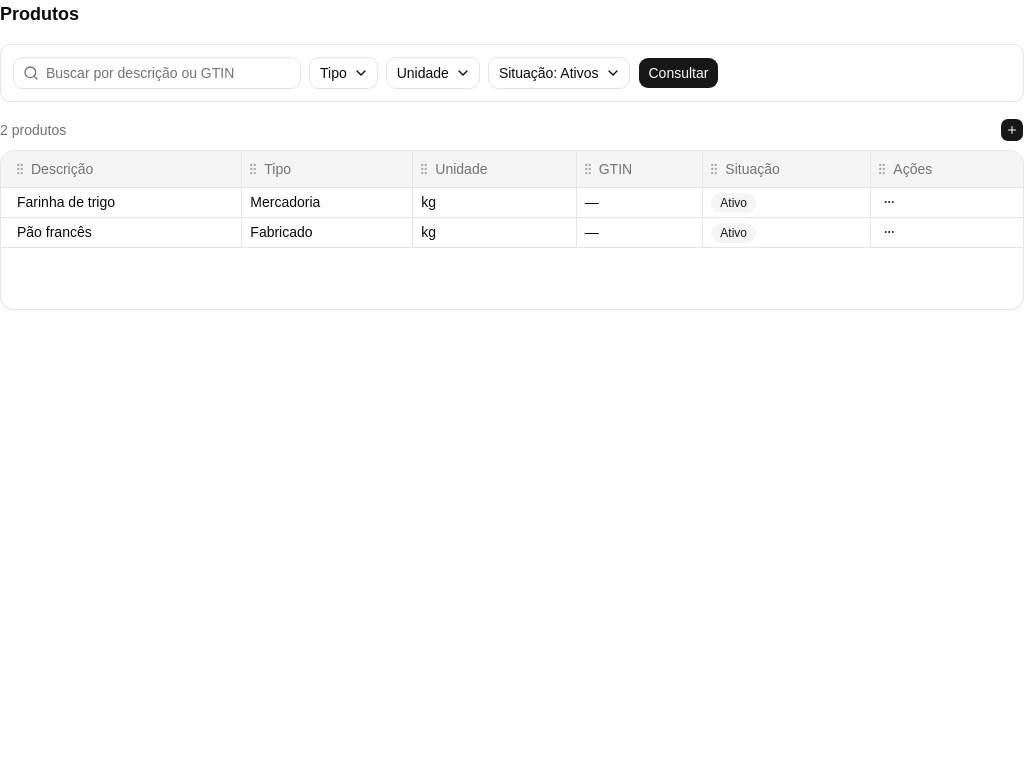
Test: ProductsListPage › lets the recipe of the product just registered be left for later
Click the button named "Novo produto". click: [1012, 130]
box: left=1000, top=118, right=1023, bottom=142
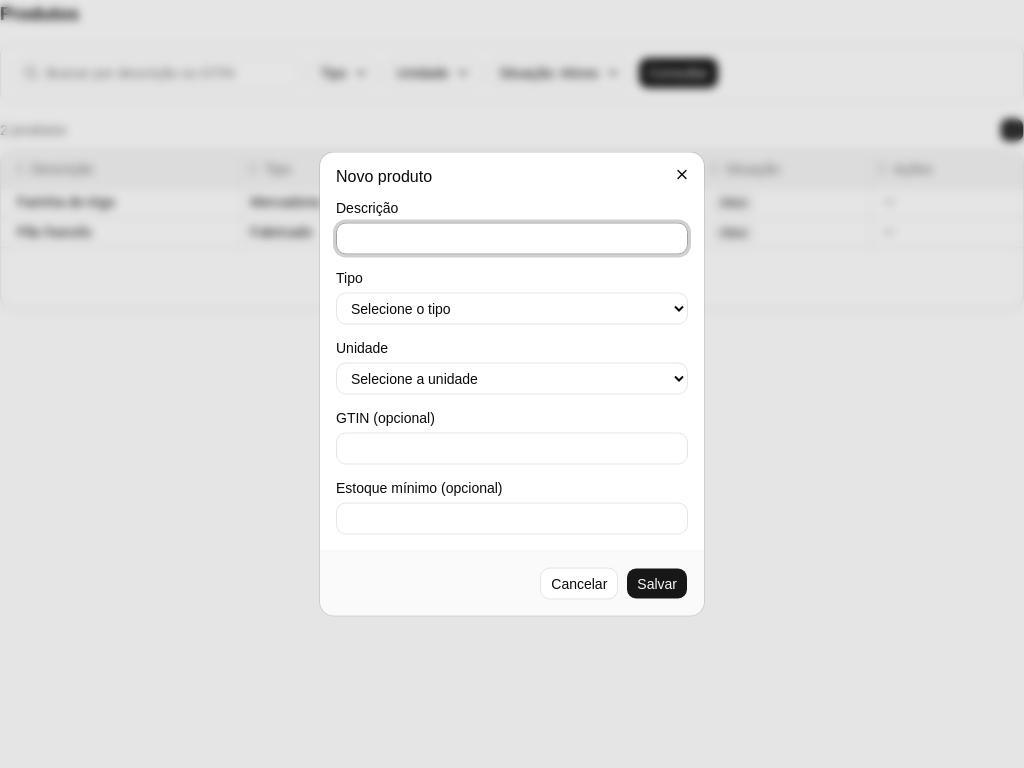
Type "Pão francês" into the field labelled "Descrição". click: [512, 238]
box: left=336, top=222, right=688, bottom=254
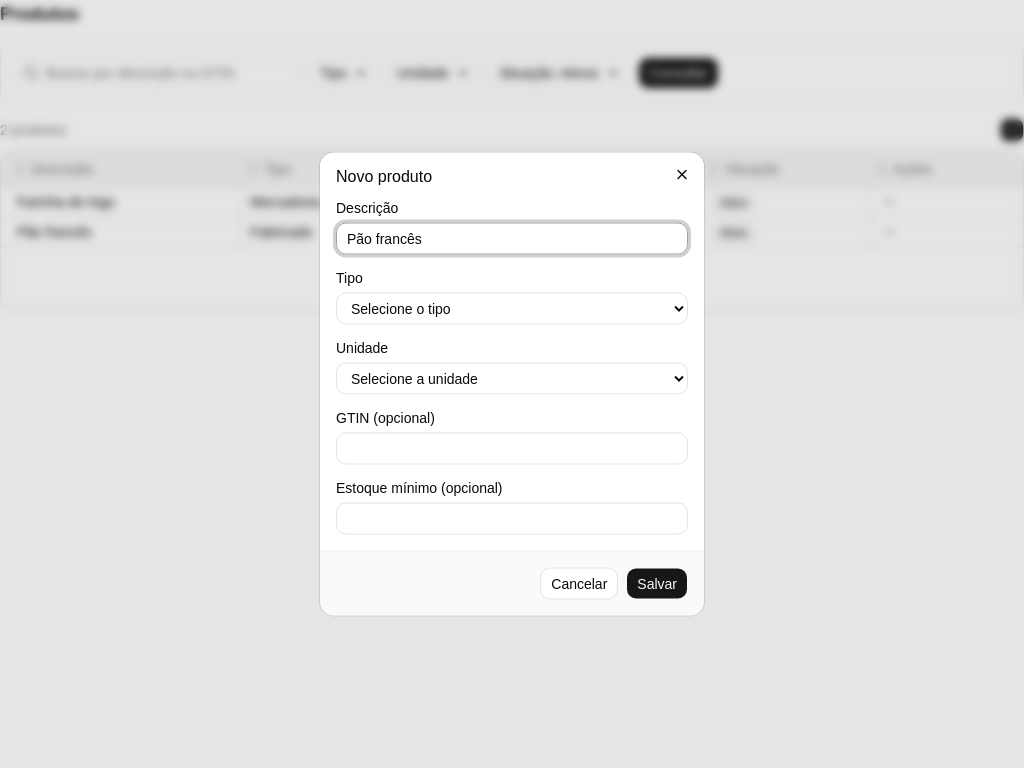
Select "Fabricado" in the dropdown labelled "Tipo". click: [512, 308]
box: left=336, top=292, right=688, bottom=324
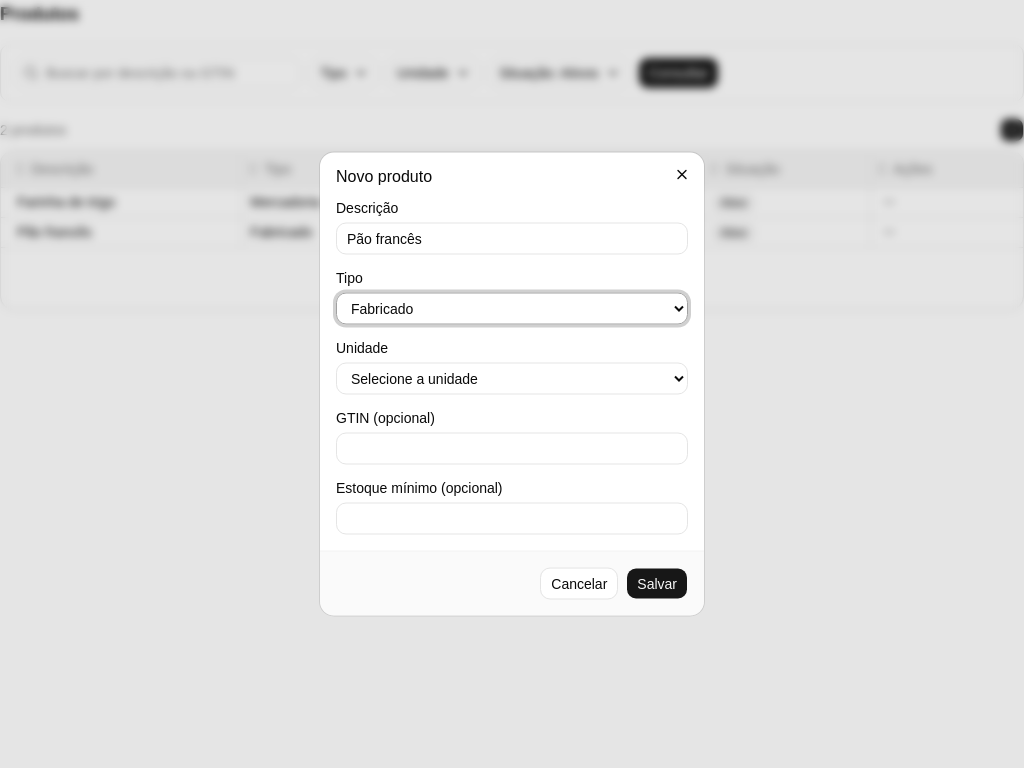
Select "Quilograma (kg)" in the dropdown labelled "Unidade". click: [512, 378]
box: left=336, top=362, right=688, bottom=394
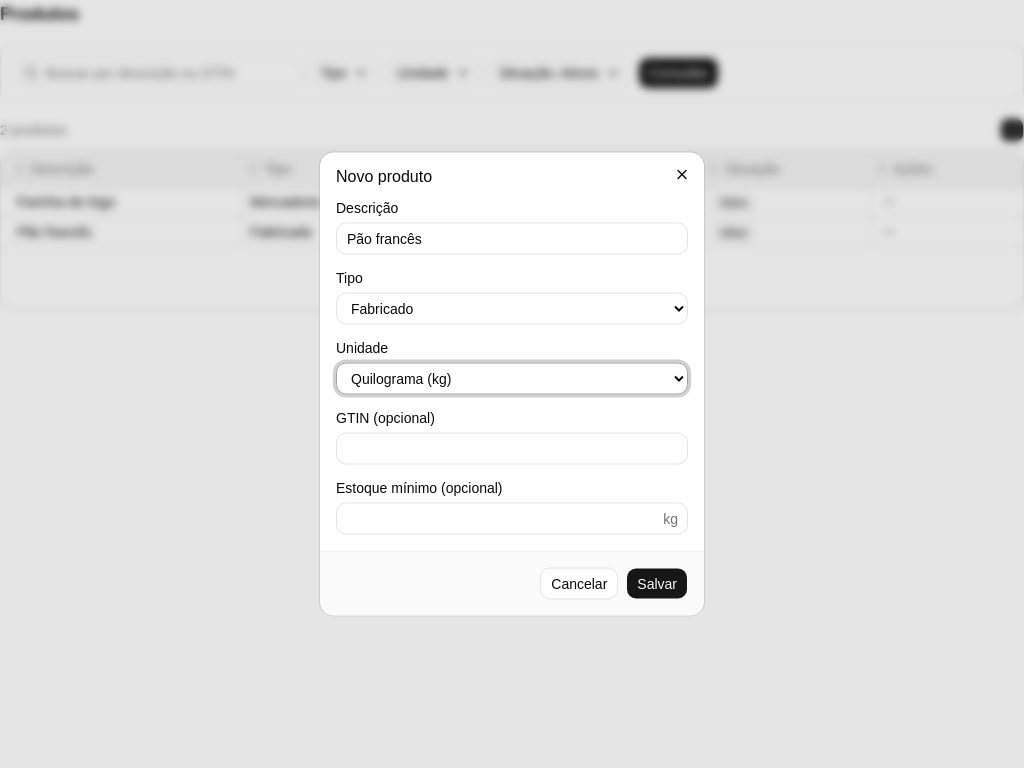
Click the button "Salvar". click: [657, 584]
box: left=626, top=568, right=688, bottom=600
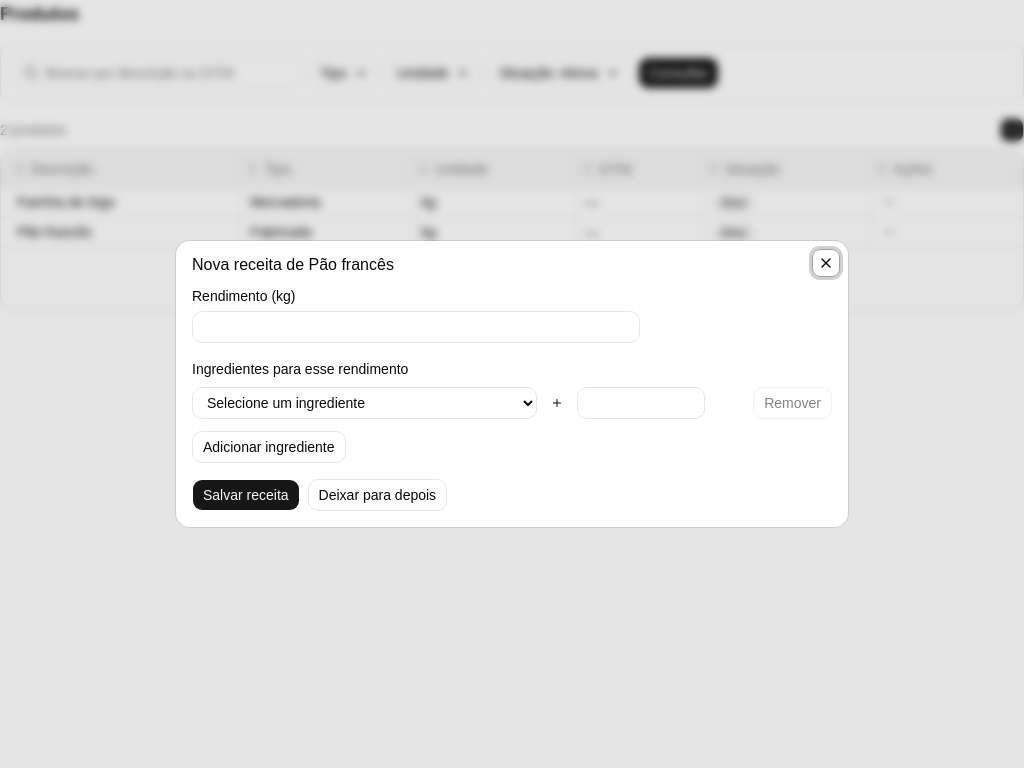
Click the button "Deixar para depois". click: [377, 495]
box: left=308, top=479, right=447, bottom=511
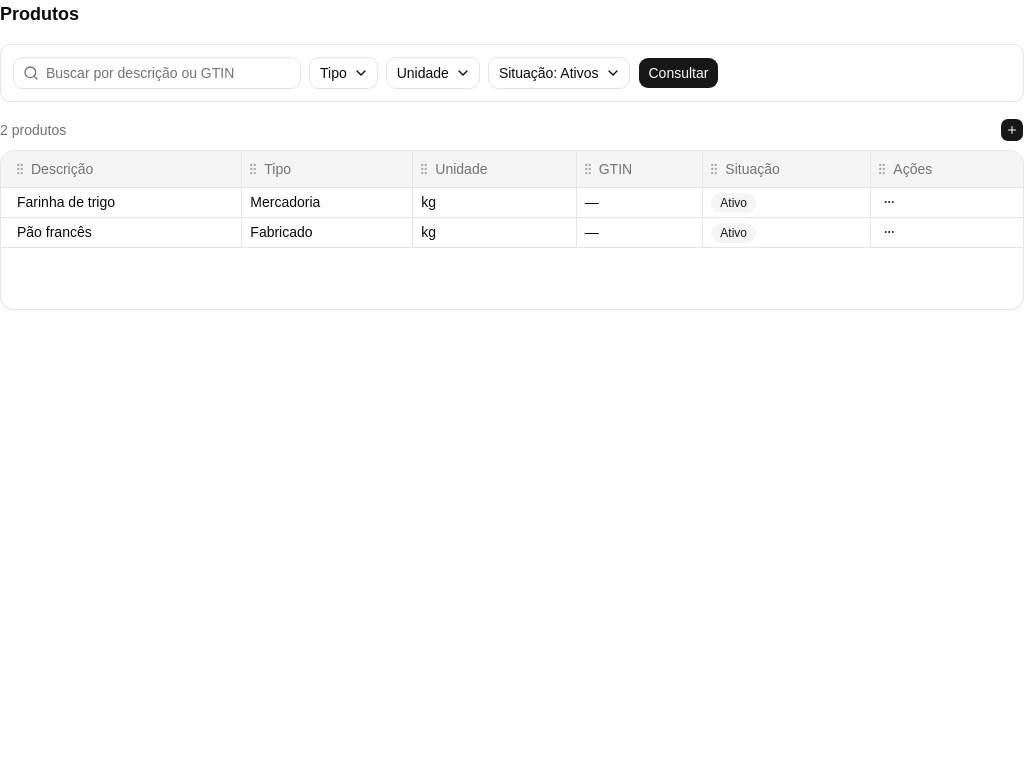
Now the dialog is gone
